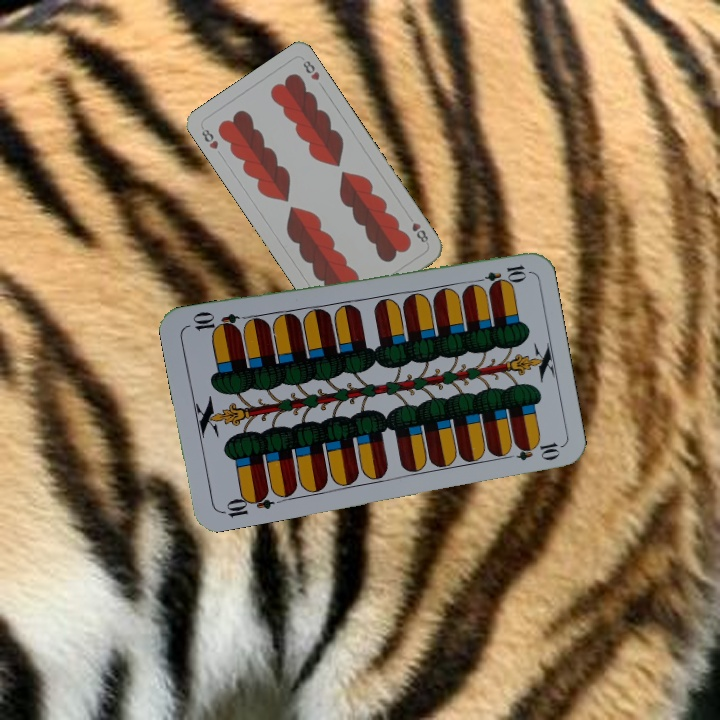E10: (217, 487, 276, 520), (470, 261, 529, 288)
H8: (197, 123, 221, 152), (408, 218, 431, 247)
